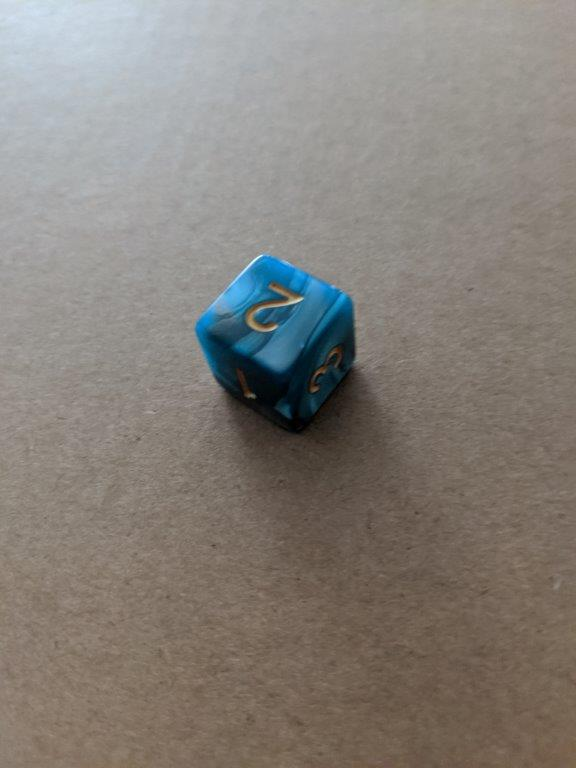d6-2: (192, 253, 358, 437)
